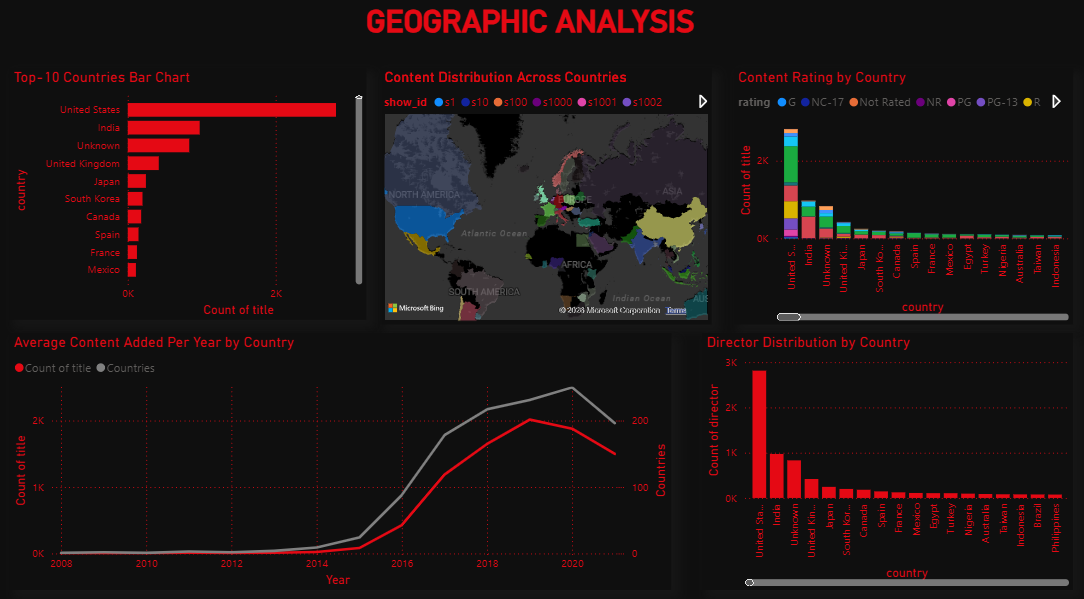

This screenshot's page, from the dashboard's own definition file:
{"tool":"powerbi","page":{"name":"Geographic Analysis","canvas":[1280,720],"ordinal":2},"visuals":[{"type":"textbox","title":"GEOGRAPHIC ANALYSIS","box":[419.3,12.3,403.5,45.6],"z":0},{"type":"filledMap","title":"Content Distribution Across Countries","fields":{"Category":["netflix_cleaned.country"],"Series":["netflix_cleaned.show_id"]},"box":[445.6,87.7,387.7,300],"z":1},{"type":"barChart","title":"Top-10 Countries Bar Chart","fields":{"Category":["netflix_cleaned.country"],"Y":["CountNonNull(netflix_cleaned.title)"]},"box":[12.3,87.7,417.5,294.7],"z":2},{"type":"columnChart","title":"Content Rating by Country","fields":{"Category":["netflix_cleaned.country"],"Series":["netflix_cleaned.rating"],"Y":["CountNonNull(netflix_cleaned.title)"]},"box":[859.6,87.7,396.5,300],"z":3},{"type":"lineChart","title":"Average Content Added Per Year by Country","fields":{"Category":["netflix_cleaned.date_added.Variation.Date Hierarchy.Year"],"Y":["CountNonNull(netflix_cleaned.title)"],"Y2":["netflix_cleaned.Countries"]},"box":[12.3,398.2,773.7,300],"z":4},{"type":"columnChart","title":"Director Distribution by Country","fields":{"Category":["netflix_cleaned.country"],"Y":["CountNonNull(netflix_cleaned.director)"]},"box":[822.8,398.2,433.3,300],"z":5}]}

Visuals, with their boxes in screenshot pixels (x1, y1, x2, y2), scaled from the page's 1280x720 canvas onto the 1084x599 screenshot:
"GEOGRAPHIC ANALYSIS" textbox: {"x1": 355, "y1": 10, "x2": 697, "y2": 48}
"Content Distribution Across Countries" filledMap: {"x1": 377, "y1": 73, "x2": 706, "y2": 323}
"Top-10 Countries Bar Chart" barChart: {"x1": 10, "y1": 73, "x2": 364, "y2": 318}
"Content Rating by Country" columnChart: {"x1": 728, "y1": 73, "x2": 1064, "y2": 323}
"Average Content Added Per Year by Country" lineChart: {"x1": 10, "y1": 331, "x2": 666, "y2": 581}
"Director Distribution by Country" columnChart: {"x1": 697, "y1": 331, "x2": 1064, "y2": 581}
